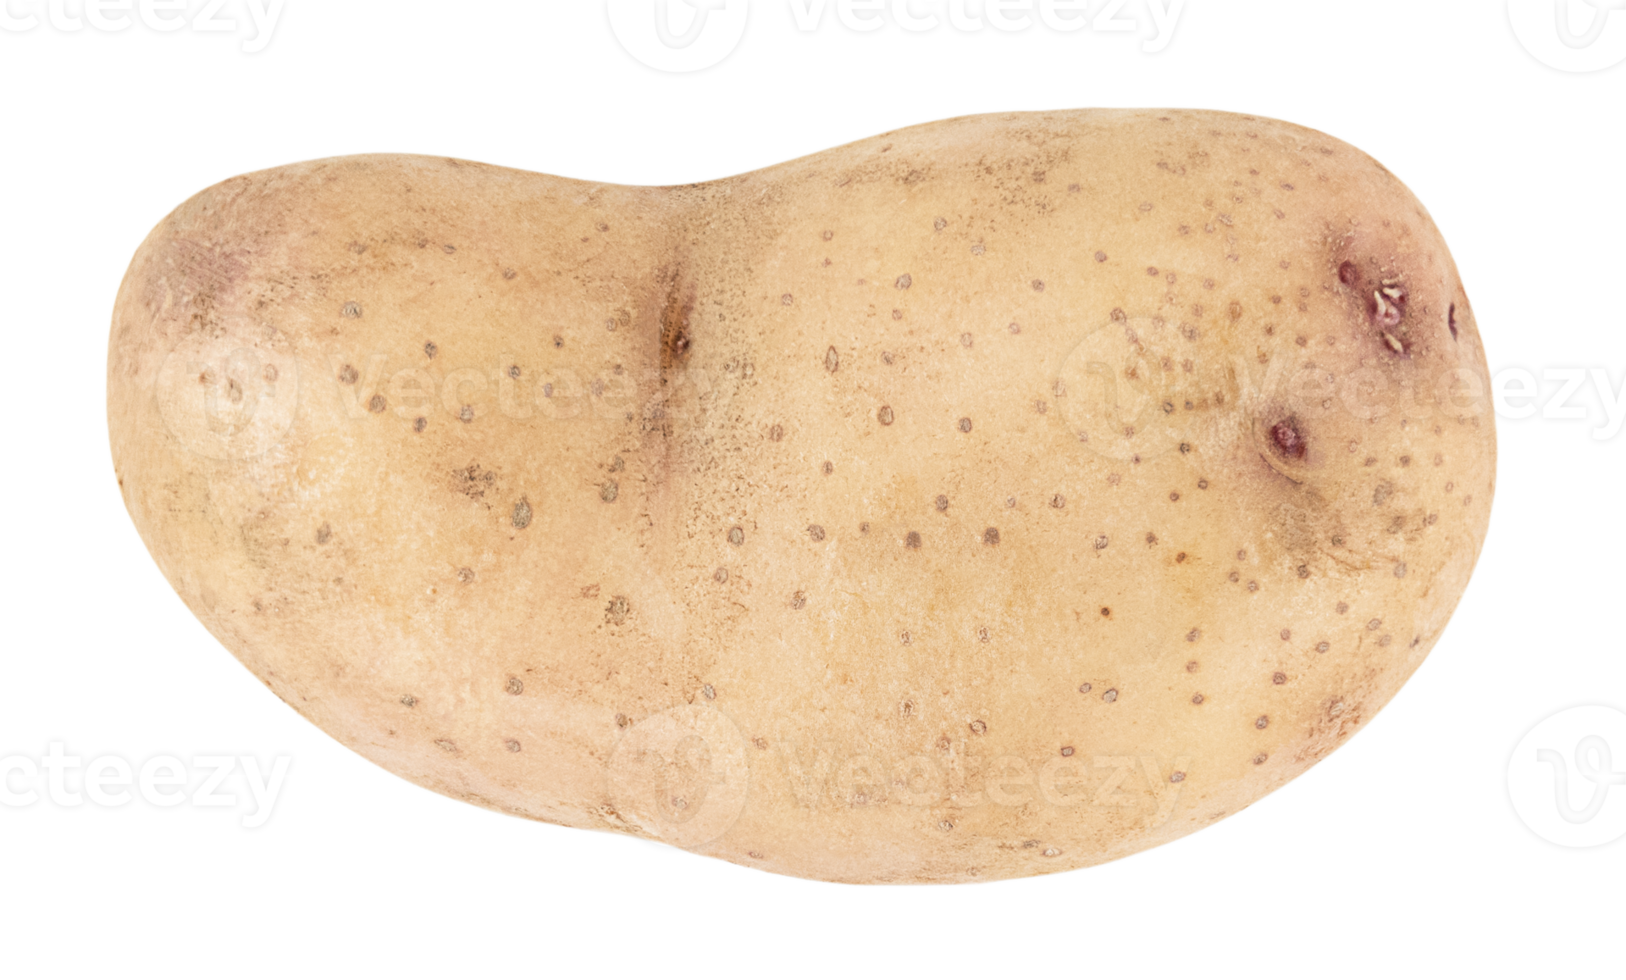potato: (80, 109, 1531, 866)
